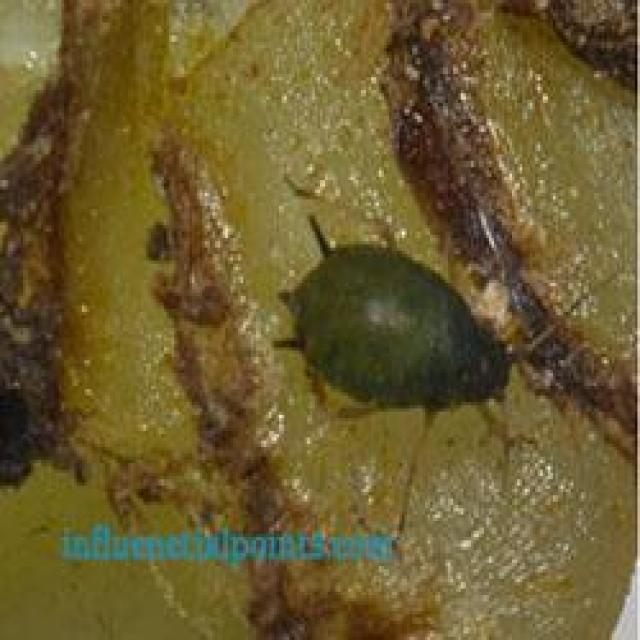Aphids: (262, 178, 610, 522)
